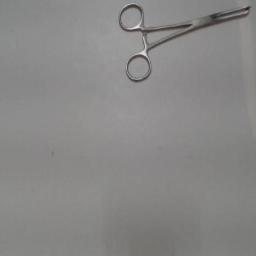Allis Tissue Forceps: (116, 0, 254, 88)
